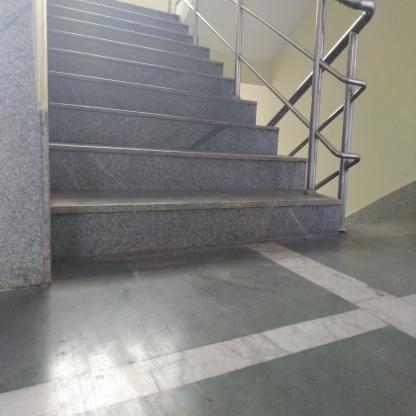stairs: (51, 7, 170, 263)
